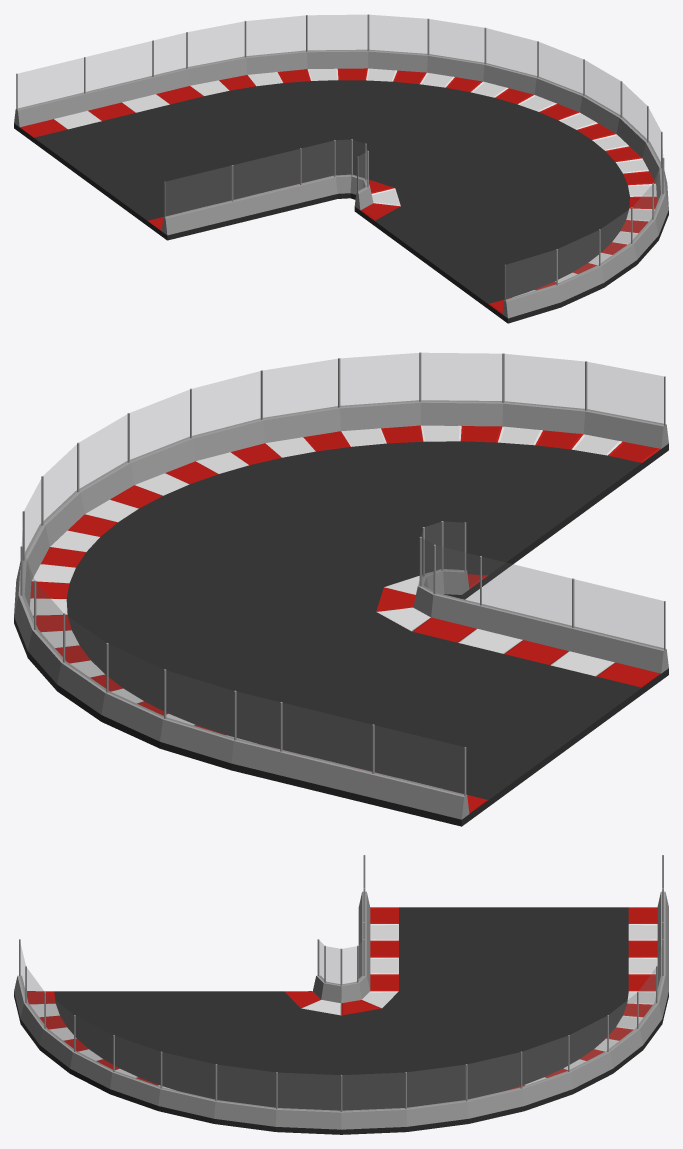
The model's file is track_hairpin_right_borders_low.glb.
3 views of the same model, one above another, from view 1: azimuth 30°, elevation 25°; view 2: azimuth 150°, elevation 25°; view 3: azimuth 270°, elevation 25° (orthographic). The views are drawn at different scales.
Visible parts, largest first — view 1: HairpinRight.002; view 2: HairpinRight.002; view 3: HairpinRight.002.
Part boxes in pixels (bbox=[...]): HairpinRight.002: bbox=[14, 14, 668, 323]; HairpinRight.002: bbox=[14, 352, 668, 826]; HairpinRight.002: bbox=[14, 855, 668, 1134].
Bounding box in the file's own units: 18.33 × 2.2 × 22.8.
